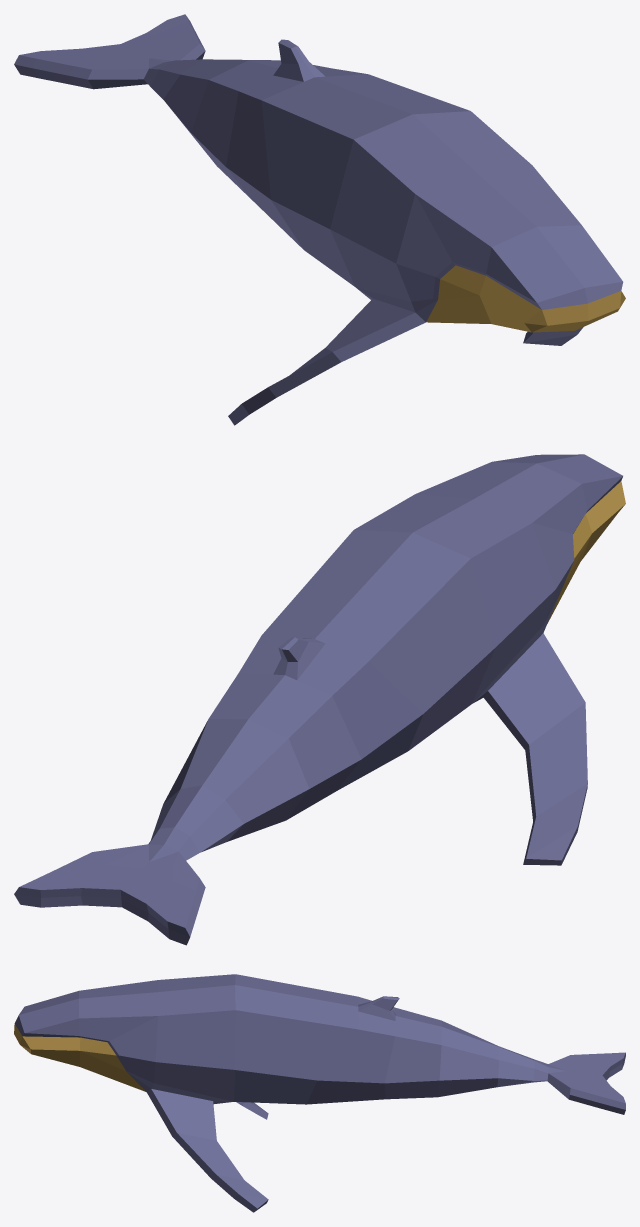
File: whale.glb
3 views of the same model, one above another, from view 1: azimuth 30°, elevation 25°; view 2: azimuth 150°, elevation 25°; view 3: azimuth 270°, elevation 25° (orthographic). The views are drawn at different scales.
Visible parts, largest first — view 1: Whale_Cylinder; view 2: Whale_Cylinder; view 3: Whale_Cylinder.
Part boxes in pixels (x1,y1,x2,y2): Whale_Cylinder: (14,14,625,425); Whale_Cylinder: (14,454,625,945); Whale_Cylinder: (14,974,625,1212).
Bounding box in the file's own units: 12.16 × 9.76 × 30.48.
